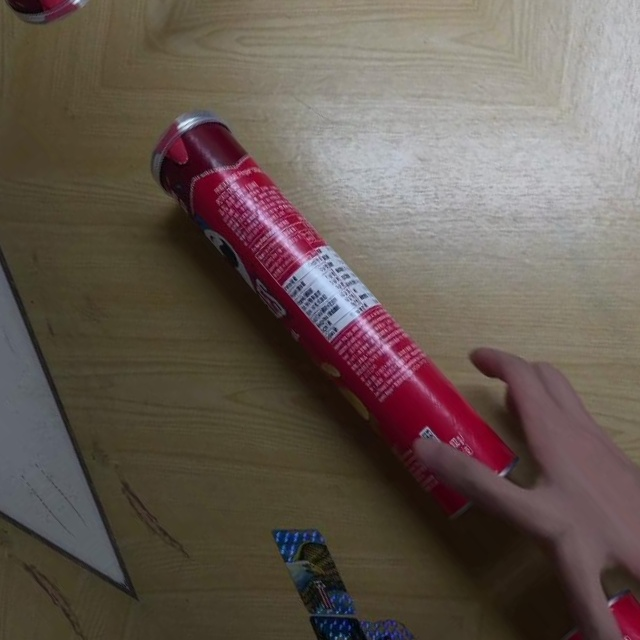Pringles: (129, 87, 527, 532)
